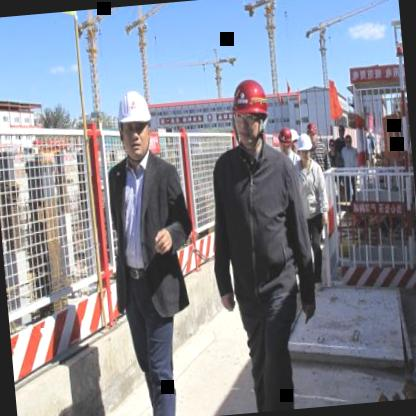helmet: (228, 75, 276, 150), (113, 86, 155, 163), (276, 123, 295, 159), (295, 132, 315, 166), (304, 116, 321, 146)
